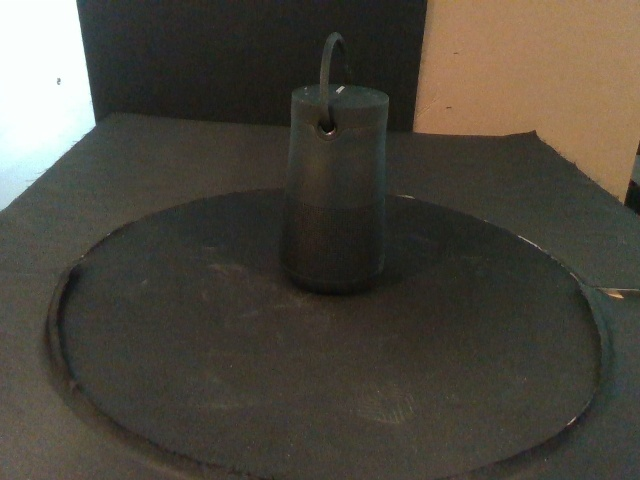speaker: (282, 82, 390, 296)
